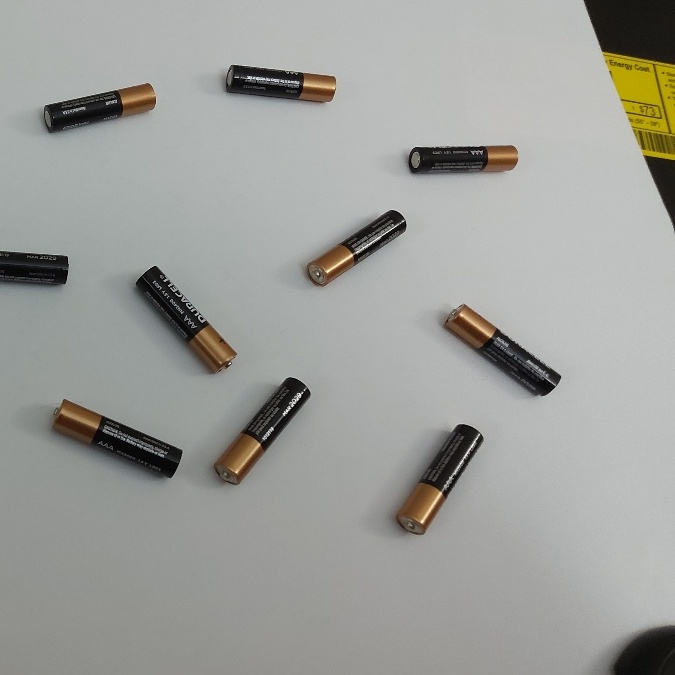battery: (444, 297, 561, 401), (134, 263, 234, 373), (53, 401, 188, 482), (391, 420, 482, 540), (212, 374, 311, 483), (301, 206, 411, 287), (38, 79, 157, 136), (404, 128, 523, 185), (220, 54, 340, 110)
